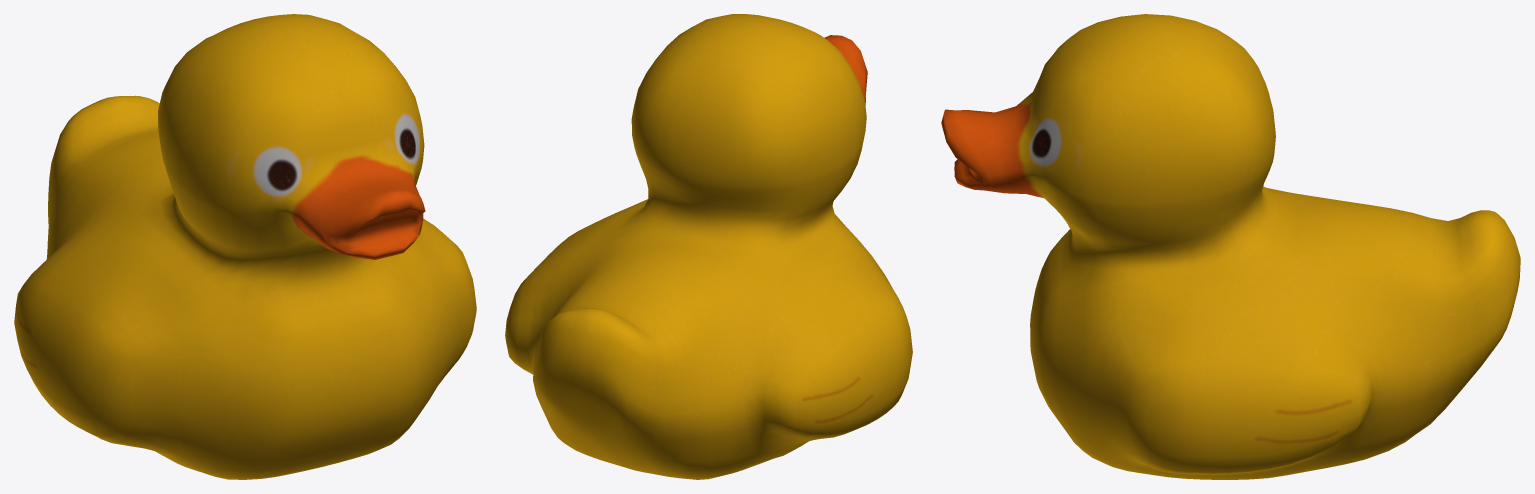
The model's file is R_Duck_01.fbx.
The picture shows the model from 3 angles, left to right: view 1: azimuth 30°, elevation 25°; view 2: azimuth 150°, elevation 25°; view 3: azimuth 270°, elevation 25°; orthographic projection. The views are drawn at different scales.
Visible parts, largest first — view 1: Duck; view 2: Duck; view 3: Duck.
Boxes of the visible parts, x1,y1,x2,y2 form: Duck: (14, 14, 476, 479); Duck: (505, 14, 912, 479); Duck: (941, 14, 1520, 479).
Bounding box in the file's own units: 7.94 × 8.32 × 10.37.
1 material, 1 textured.
